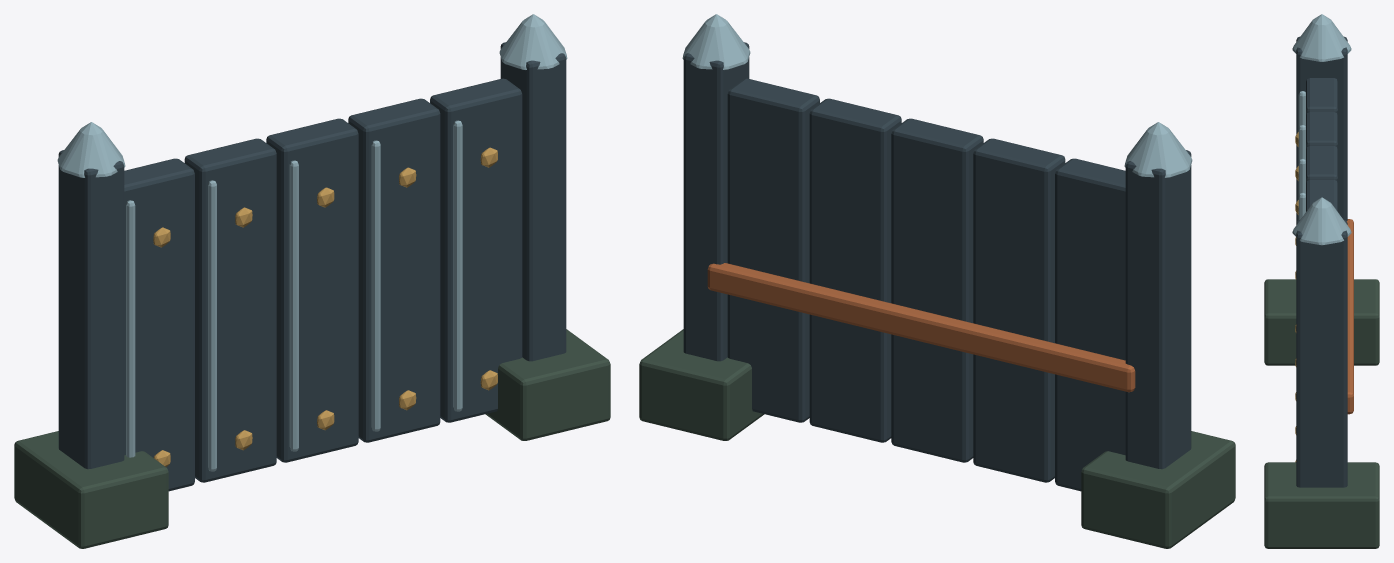
File: metalwall.glb
The picture shows the model from 3 angles, left to right: view 1: azimuth 30°, elevation 25°; view 2: azimuth 150°, elevation 25°; view 3: azimuth 270°, elevation 25°; orthographic projection. The views are drawn at different scales.
Visible parts, largest first — view 1: IronPost, StoneFoot, PostCap, Rivet; view 2: IronPost, StoneFoot, CrossBrace, PostCap; view 3: IronPost, StoneFoot, PostCap, CrossBrace, Rivet.
Part boxes in pixels (x1,y1,x2,y2): IronPost: (58, 42, 566, 491); StoneFoot: (14, 329, 610, 548); PostCap: (57, 14, 567, 471); Rivet: (153, 147, 497, 466); IronPost: (683, 42, 1191, 491); StoneFoot: (639, 329, 1235, 548); CrossBrace: (707, 263, 1135, 392); PostCap: (682, 14, 1192, 177); IronPost: (1296, 36, 1347, 487); StoneFoot: (1264, 279, 1379, 548); PostCap: (1292, 14, 1351, 245); CrossBrace: (1347, 219, 1353, 414); Rivet: (1295, 132, 1298, 462).
Size of the model in its own units: 3.25 by 2.3 by 0.72.
